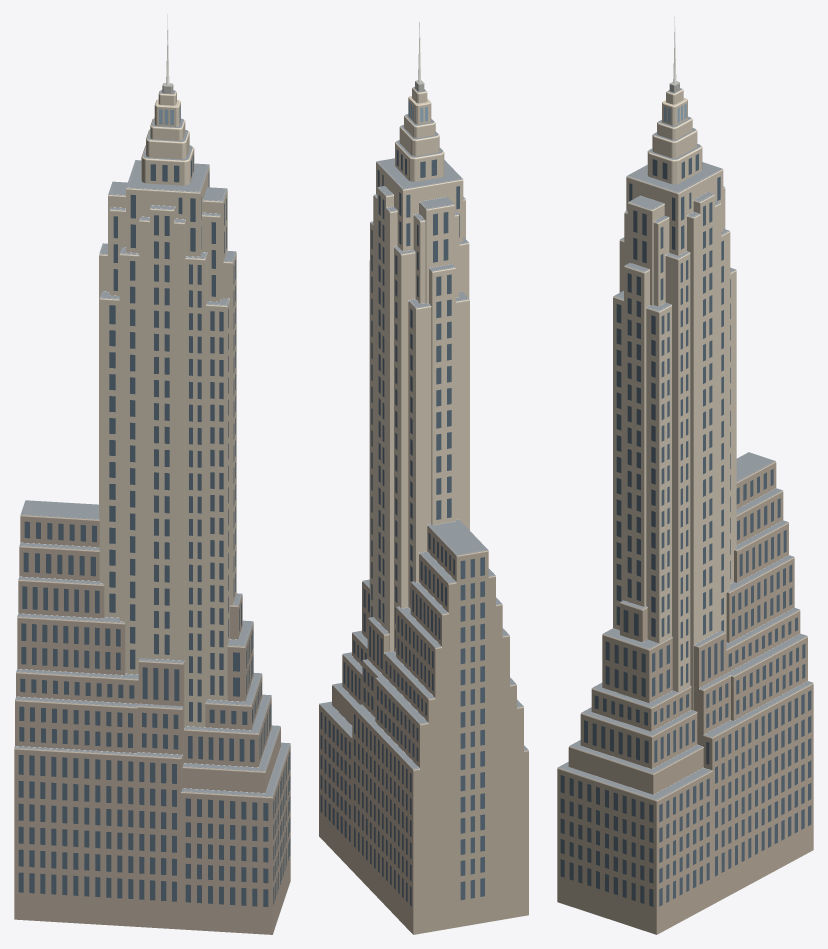
The picture shows the model from 3 angles, left to right: view 1: azimuth 30°, elevation 25°; view 2: azimuth 150°, elevation 25°; view 3: azimuth 270°, elevation 25°; orthographic projection. The views are drawn at different scales.
Visible parts, largest first — view 1: 70-pine-street; view 2: 70-pine-street; view 3: 70-pine-street.
Part boxes in pixels (x1=…): 70-pine-street: x1=14, y1=14, x2=290, y2=934; 70-pine-street: x1=319, y1=21, x2=528, y2=934; 70-pine-street: x1=557, y1=17, x2=813, y2=934.
Size of the model in its own units: 84.49 by 290 by 77.77.
